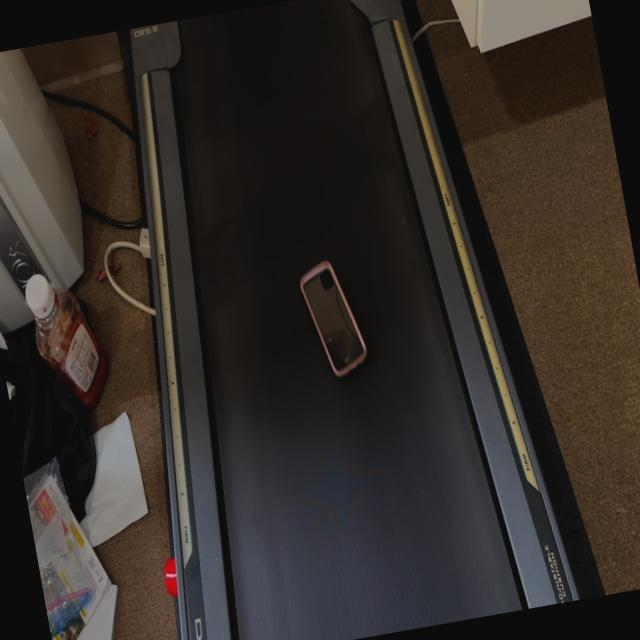Trash: (296, 256, 370, 380)
